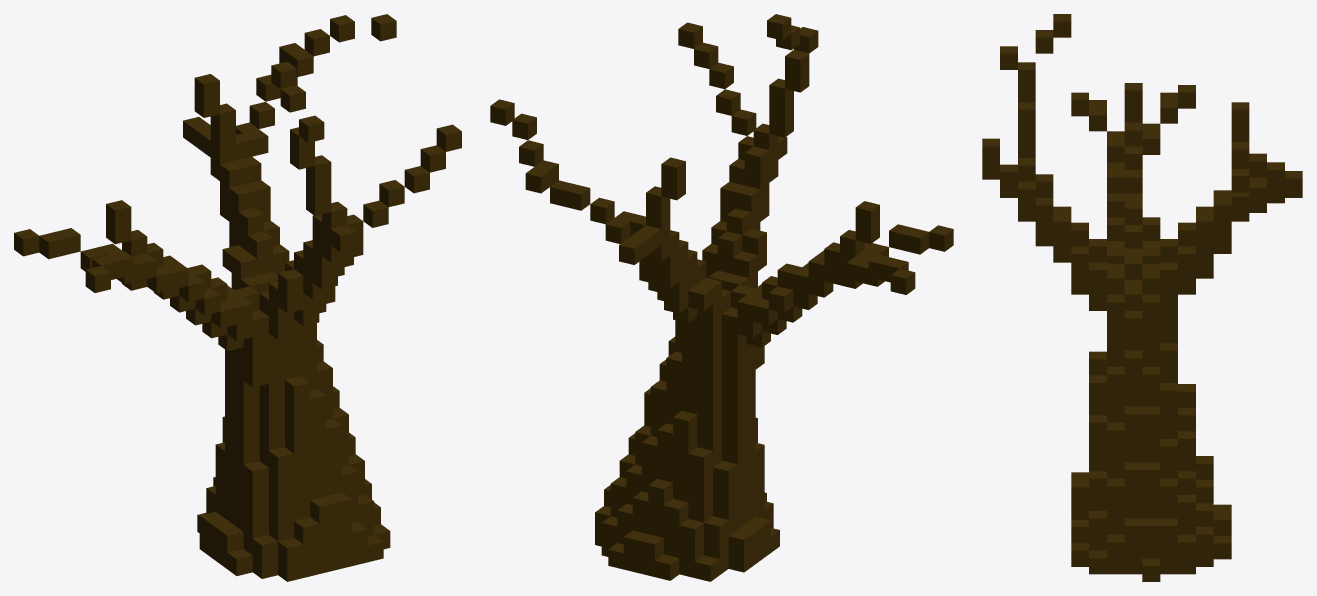
The model's file is AllSimpleModel-1-DeadTree1.obj.
3 renders of one model, left to right at view 1: azimuth 30°, elevation 25°; view 2: azimuth 150°, elevation 25°; view 3: azimuth 270°, elevation 25°, orthographic. The views are drawn at different scales.
Parts seen in each view (by area): view 1: DeadTree1; view 2: DeadTree1; view 3: DeadTree1.
Part boxes in pixels (box(x1,y1,x2,y2)): DeadTree1: box(14, 14, 461, 581); DeadTree1: box(490, 14, 953, 581); DeadTree1: box(982, 14, 1302, 581).
Size of the model in its own units: 2.5 by 3.1 by 1.8.
1 material, 1 textured.
